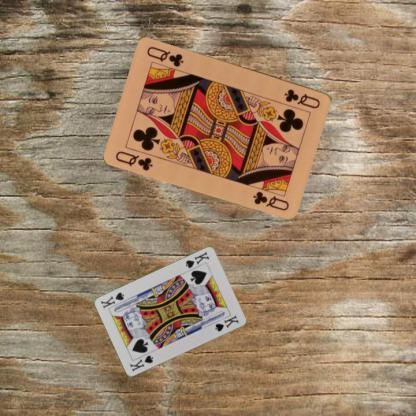Ks: (183, 249, 210, 270), (127, 353, 154, 373)
Qc: (113, 148, 155, 172), (282, 86, 322, 110)
